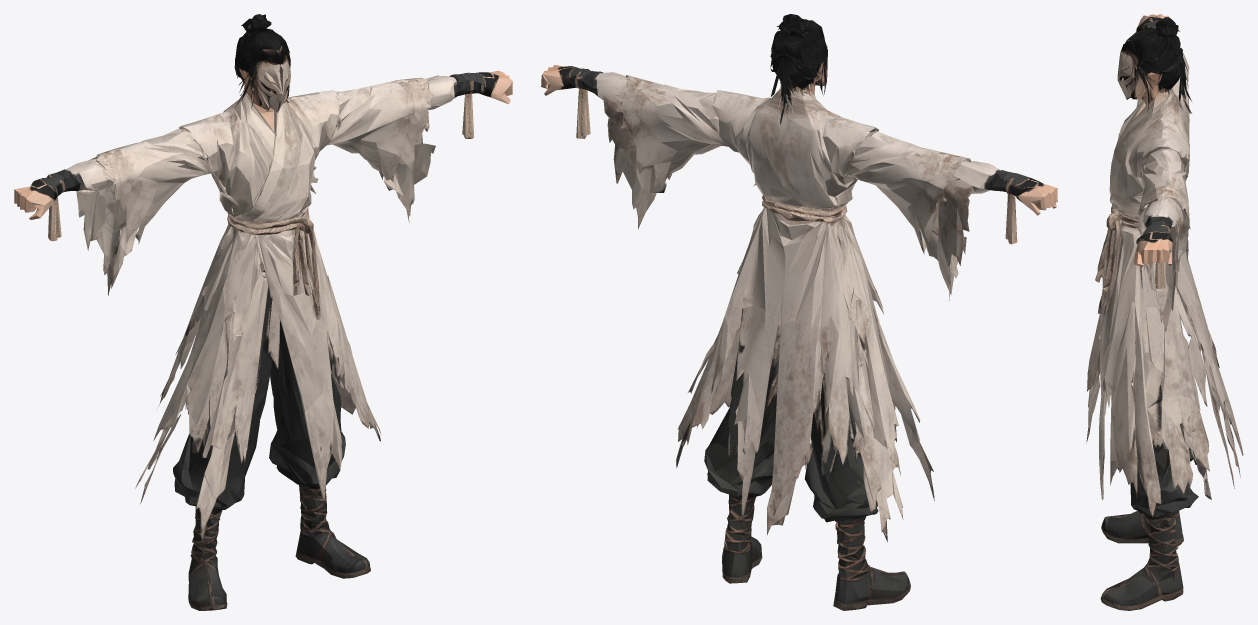
The model's file is talisman_master_mesh.glb.
3 views of the same model, side by side, from view 1: azimuth 30°, elevation 25°; view 2: azimuth 150°, elevation 25°; view 3: azimuth 270°, elevation 25° (orthographic). The views are drawn at different scales.
Bounding box in the file's own units: 1.74 × 1.9 × 0.4894.
Materials: 1 (1 with a texture image).
